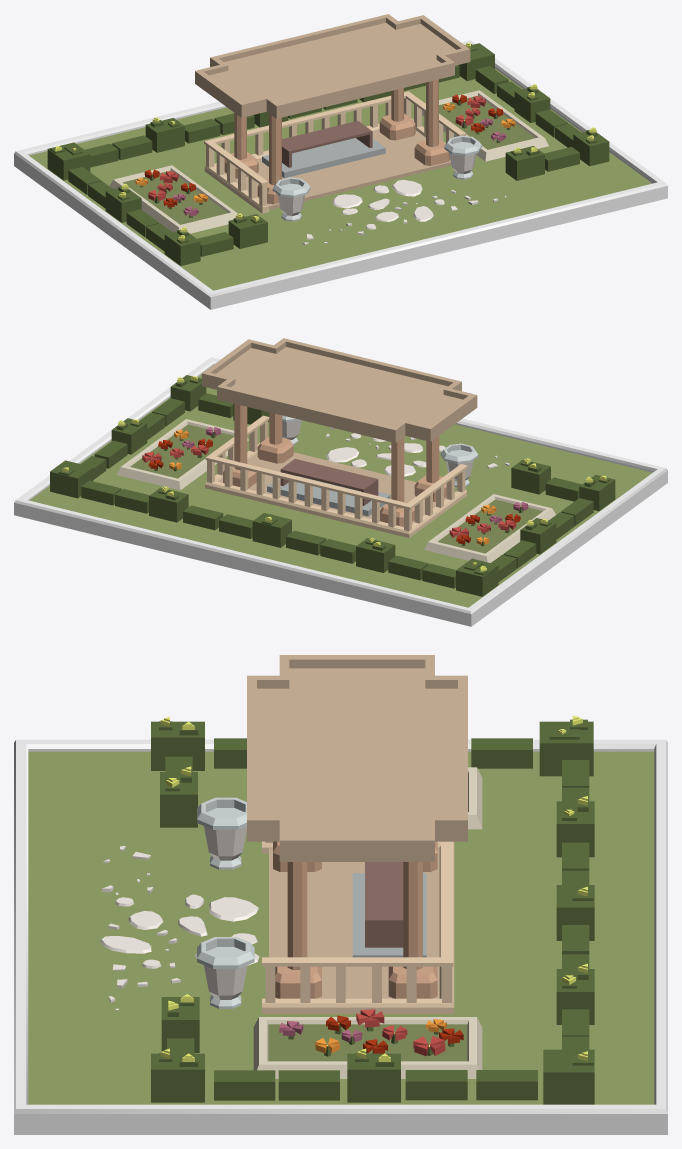
The model's file is ethnic_buildings_06.FBX.
3 renders of one model, top to bottom at view 1: azimuth 30°, elevation 25°; view 2: azimuth 150°, elevation 25°; view 3: azimuth 270°, elevation 25°, orthographic. The views are drawn at different scales.
Visible parts, largest first — view 1: Object_01, Object_00, Object_04, Object_05, Object_03, Object_06, Object_07, Object_02; view 2: Object_01, Object_00, Object_04, Object_05, Object_03, Object_06, Object_07; view 3: Object_01, Object_00, Object_04, Object_03, Object_06, Object_02, Object_07, Object_05.
Part boxes in pixels (<box>): Object_01: <box>14,40,667,309</box>; Object_00: <box>195,14,470,213</box>; Object_04: <box>47,42,609,265</box>; Object_05: <box>109,165,237,233</box>; Object_03: <box>422,90,548,161</box>; Object_06: <box>302,180,506,244</box>; Object_07: <box>272,177,310,221</box>; Object_02: <box>444,135,481,179</box>; Object_01: <box>14,357,667,626</box>; Object_00: <box>202,338,477,537</box>; Object_04: <box>50,375,615,596</box>; Object_05: <box>424,494,555,562</box>; Object_03: <box>116,419,248,490</box>; Object_06: <box>326,427,509,476</box>; Object_07: <box>440,443,478,487</box>; Object_01: <box>14,739,667,1134</box>; Object_00: <box>247,655,467,1013</box>; Object_04: <box>151,715,594,1104</box>; Object_03: <box>253,1009,482,1078</box>; Object_06: <box>100,846,259,1010</box>; Object_02: <box>197,937,254,1008</box>; Object_07: <box>197,797,246,869</box>; Object_05: <box>468,767,482,829</box>.
Size of the model in its own units: 1016 by 253 by 756.
